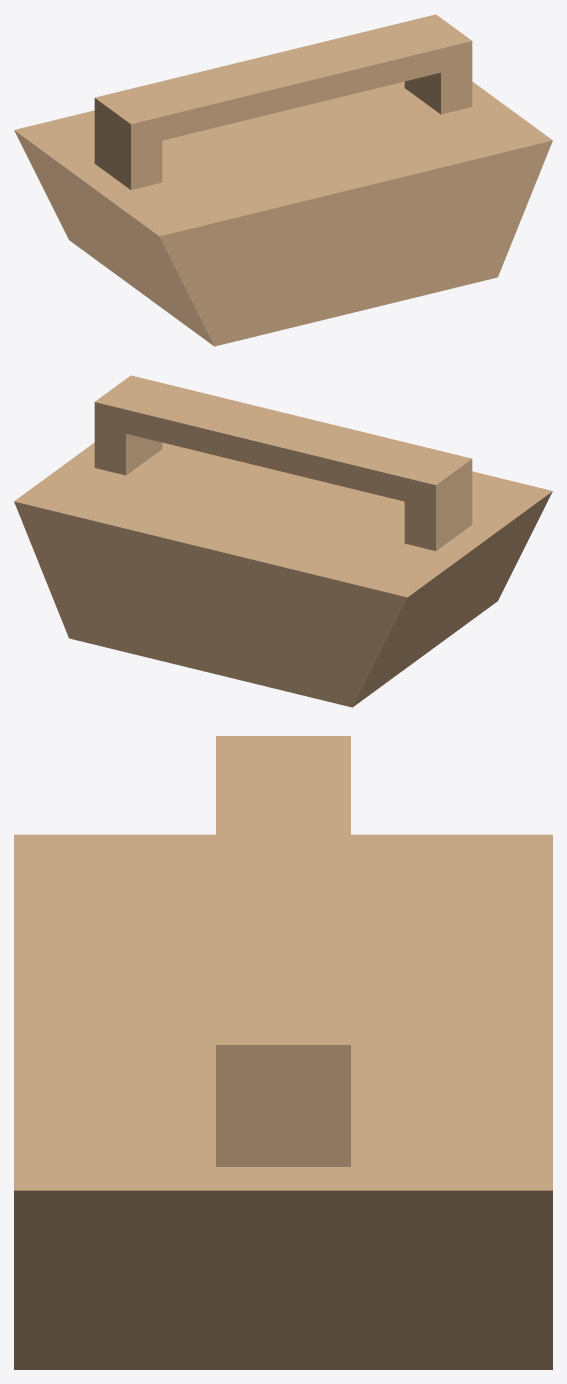
The model's file is Lunchbox.dae.
The picture shows the model from 3 angles, top to bottom: view 1: azimuth 30°, elevation 25°; view 2: azimuth 150°, elevation 25°; view 3: azimuth 270°, elevation 25°; orthographic projection. The views are drawn at different scales.
Parts seen in each view (by area): view 1: MealBoxMeat.001; view 2: MealBoxMeat.001; view 3: MealBoxMeat.001.
Part boxes in pixels (x1,y1,x2,y2): MealBoxMeat.001: (14, 14, 552, 346); MealBoxMeat.001: (14, 375, 552, 707); MealBoxMeat.001: (14, 736, 552, 1369).
Bounding box in the file's own units: 0.125 × 0.08 × 0.0575.
